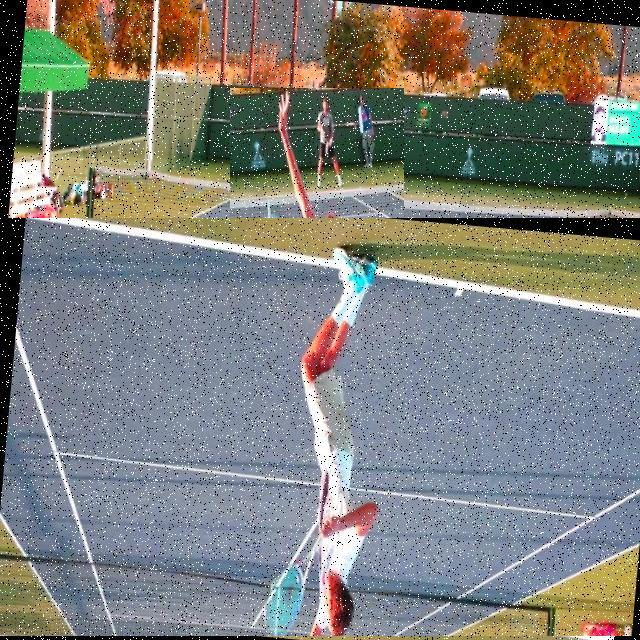court: (0, 218, 640, 636)
net: (83, 152, 640, 308)
player: (230, 88, 404, 623)
